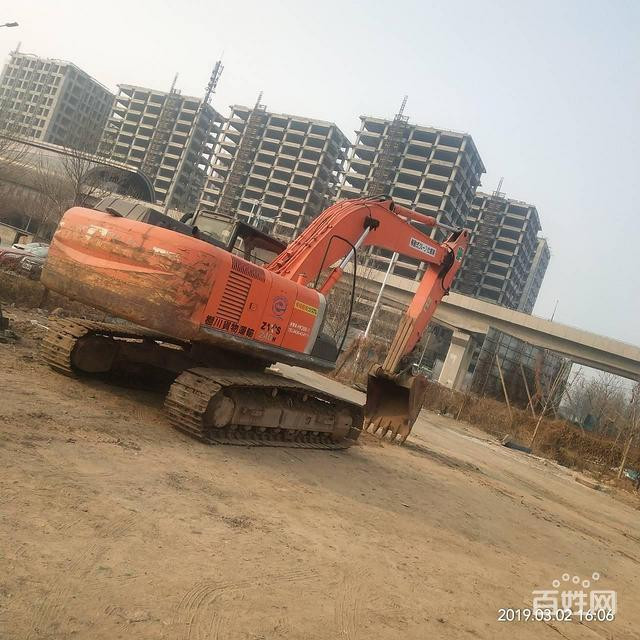excavator: (43, 190, 488, 460)
